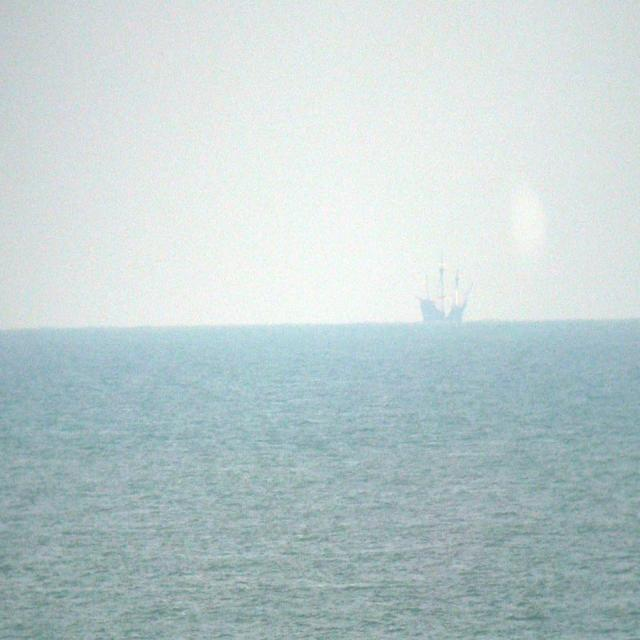fishing boat: (418, 260, 477, 330)
